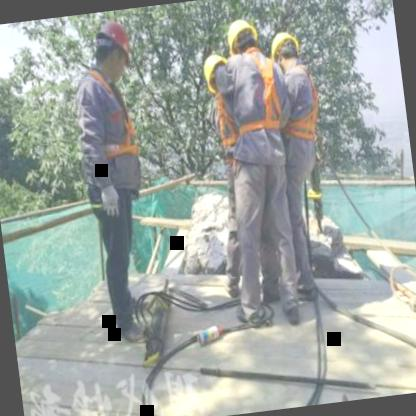helmet: (91, 11, 138, 83), (223, 14, 264, 67), (266, 26, 304, 74), (198, 50, 234, 96)
